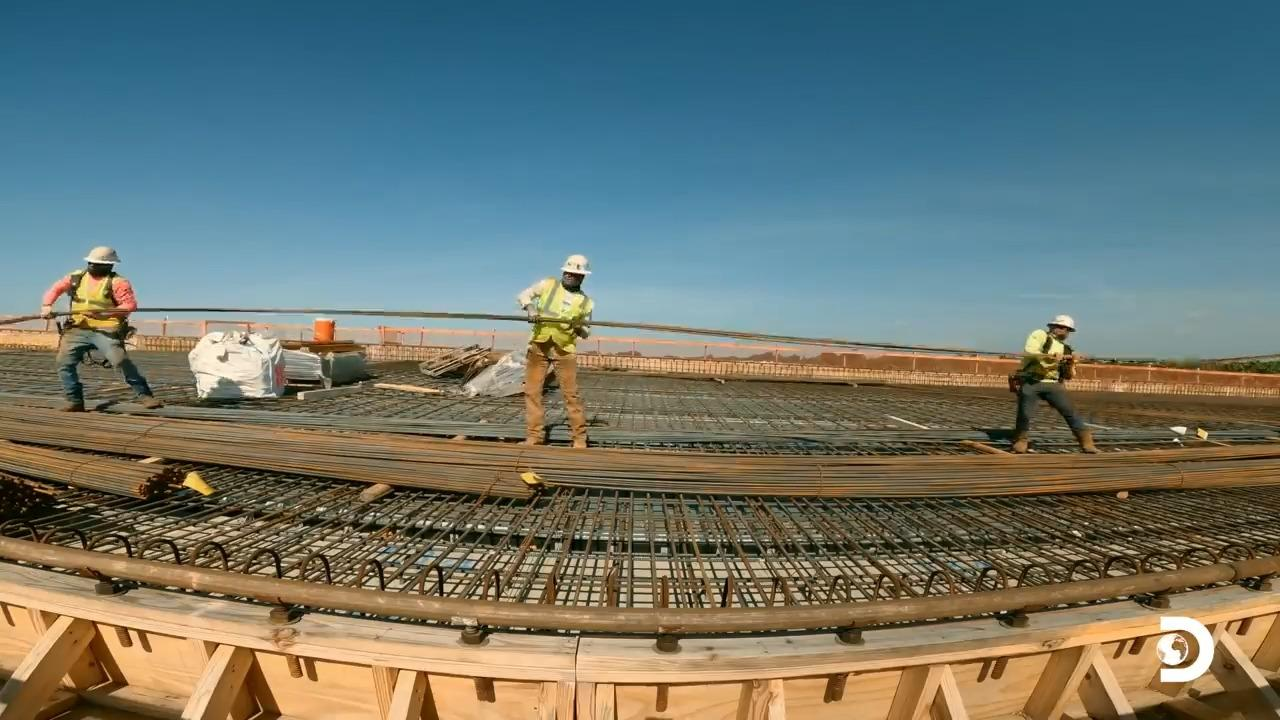Gloves: (524, 303, 538, 322), (41, 304, 54, 320)
Helmet: (83, 245, 120, 264), (560, 254, 591, 275), (1046, 314, 1075, 331)
Person: (40, 245, 164, 412), (515, 254, 594, 448), (1008, 313, 1103, 454), (519, 431, 543, 444)
Safety Boot: (1006, 436, 1027, 457), (137, 392, 164, 408), (1078, 436, 1099, 452), (571, 434, 589, 452), (63, 400, 86, 411)
Safety Vest: (73, 285, 123, 335), (543, 292, 583, 353), (1034, 343, 1071, 383)
bare-arms: (1049, 352, 1061, 366)
